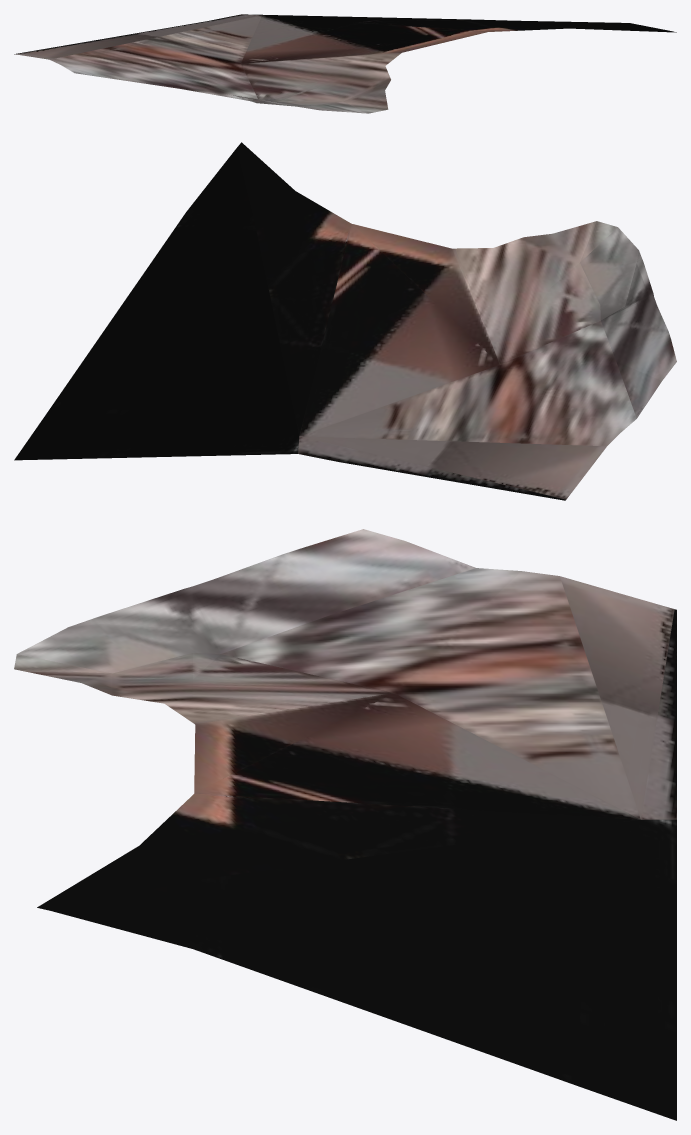
3 renders of one model, top to bottom at view 1: azimuth 30°, elevation 25°; view 2: azimuth 150°, elevation 25°; view 3: azimuth 270°, elevation 25°, orthographic. The views are drawn at different scales.
Bounding box in the file's own units: 3.35 × 0.8795 × 2.48.
2 materials, 2 textured.
